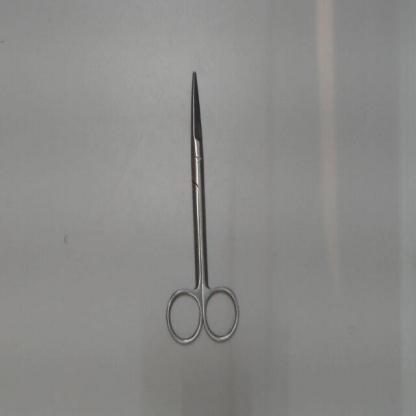Curved Mayo Scissors: (156, 60, 245, 354)
